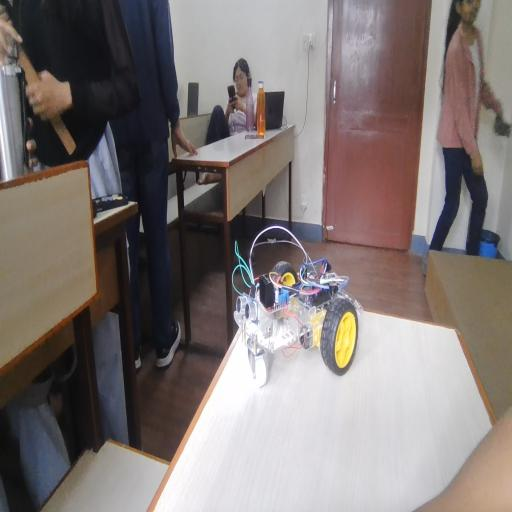car: (218, 187, 357, 395)
